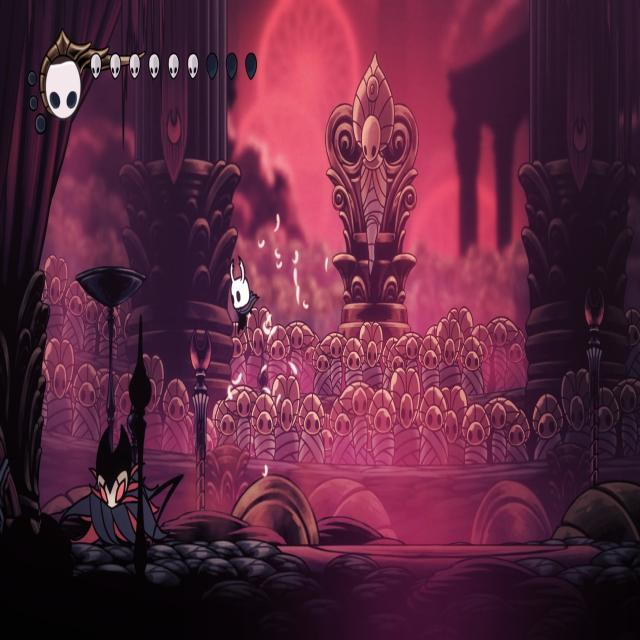Dive Dash: (56, 417, 188, 548)
Player: (224, 249, 262, 340)
